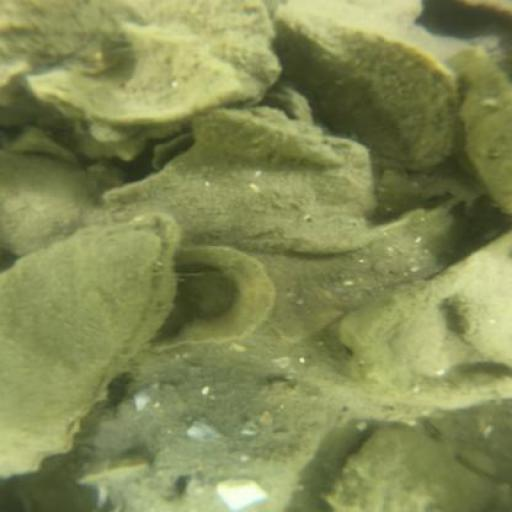Oyster-Closed: (105, 112, 378, 250), (95, 374, 340, 512), (280, 16, 459, 170), (330, 426, 502, 512), (188, 104, 347, 169), (462, 51, 512, 225), (5, 153, 87, 255), (452, 232, 510, 363)
Oyster-Open: (2, 210, 181, 475)
